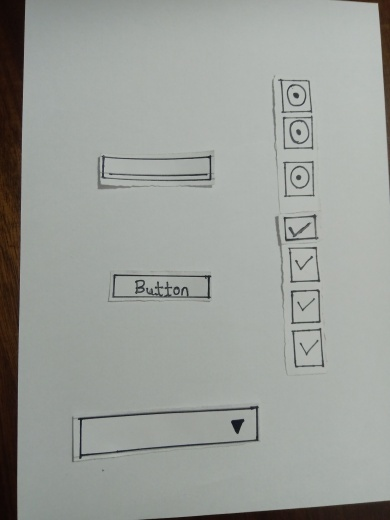button: (108, 275, 210, 301)
checkbox: (292, 247, 318, 279), (291, 290, 317, 322), (297, 331, 323, 363), (286, 222, 316, 238)
dropdown: (72, 409, 258, 458)
radio: (279, 80, 312, 112), (281, 160, 314, 192), (282, 117, 315, 149)
text: (101, 156, 212, 184)
